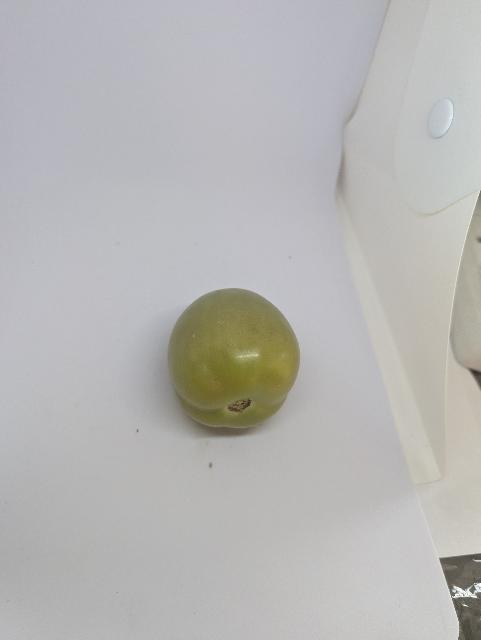green: (162, 272, 311, 456)
